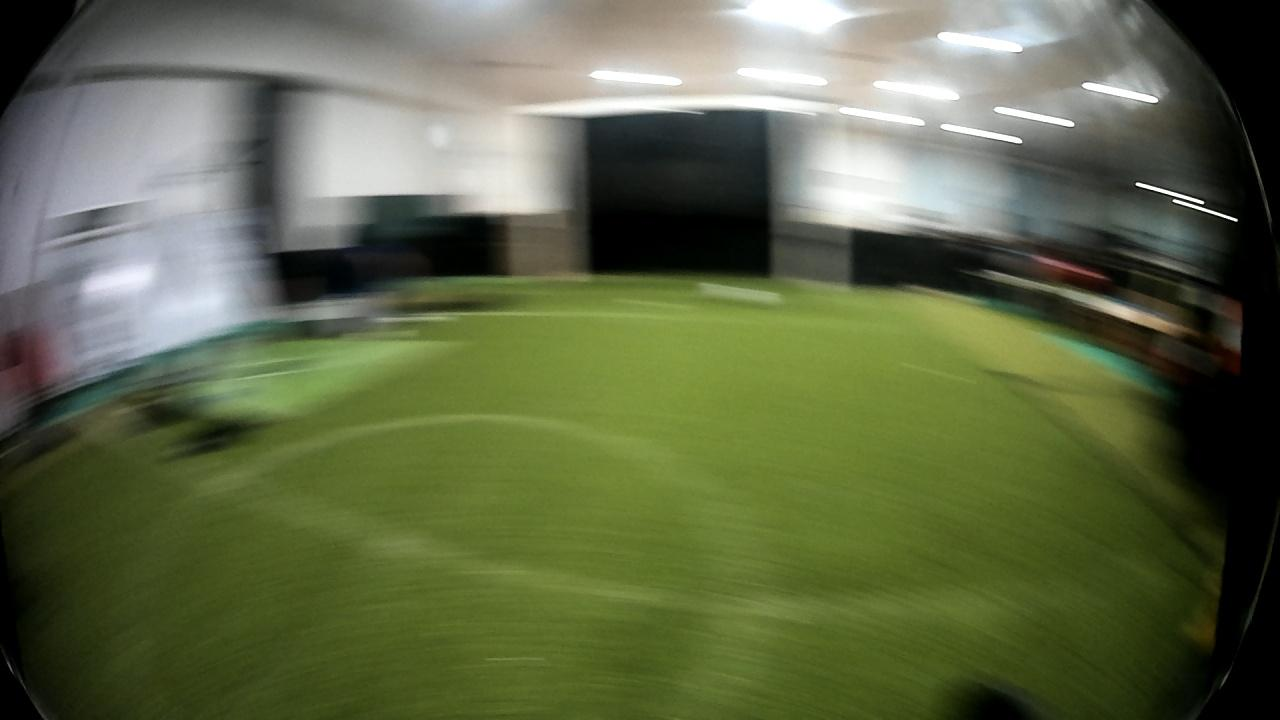ball: (691, 275, 785, 314)
